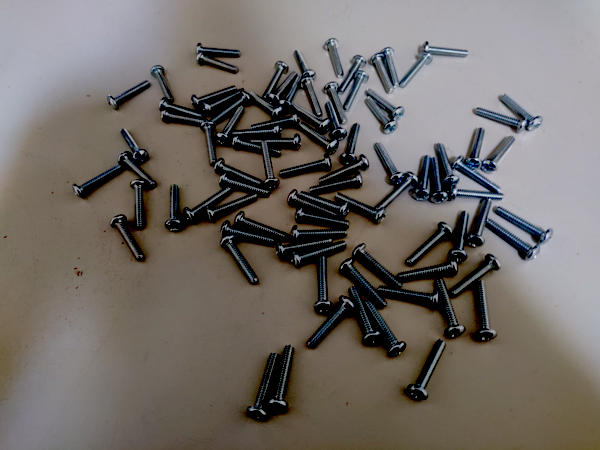longscrew: (309, 295, 353, 352), (365, 294, 402, 356), (409, 340, 447, 400), (339, 259, 386, 305), (489, 220, 541, 259), (498, 206, 554, 242), (348, 285, 377, 348), (251, 353, 277, 421), (270, 343, 296, 411), (108, 215, 144, 264), (406, 224, 450, 264), (453, 258, 498, 297), (358, 244, 400, 285), (469, 281, 497, 341), (437, 279, 465, 339), (224, 236, 257, 286), (72, 167, 123, 199), (454, 160, 502, 193), (218, 221, 277, 247), (397, 261, 460, 285), (475, 103, 527, 132), (500, 93, 542, 128), (373, 286, 439, 308), (336, 192, 386, 221), (299, 189, 349, 218), (290, 239, 348, 264), (121, 150, 158, 189), (189, 186, 230, 221), (206, 192, 261, 218), (286, 189, 335, 218), (378, 171, 416, 208), (235, 213, 289, 239), (296, 118, 336, 153), (311, 254, 334, 314), (280, 151, 334, 176), (216, 154, 262, 183), (306, 171, 363, 194), (211, 89, 248, 123), (319, 155, 367, 181), (215, 174, 271, 196), (374, 142, 403, 184), (484, 137, 519, 171), (216, 104, 245, 144), (118, 126, 149, 163), (470, 198, 493, 247), (109, 80, 149, 108), (297, 206, 350, 227), (367, 90, 405, 119), (365, 100, 397, 134), (292, 102, 330, 130), (369, 53, 394, 94), (402, 55, 436, 85), (158, 99, 208, 119), (451, 211, 470, 263), (268, 71, 298, 103), (203, 87, 243, 111), (340, 55, 365, 93), (345, 70, 368, 111), (325, 83, 348, 124), (413, 155, 433, 201), (324, 101, 347, 141), (259, 139, 277, 190), (291, 223, 348, 239), (192, 83, 235, 104), (339, 122, 361, 163), (277, 240, 330, 257), (439, 141, 459, 186), (429, 158, 449, 203), (251, 87, 281, 117), (246, 113, 298, 130), (195, 53, 238, 73), (322, 39, 345, 76), (301, 79, 323, 117), (293, 44, 315, 82), (131, 180, 147, 230), (229, 139, 282, 154), (265, 61, 287, 97), (420, 41, 471, 56), (192, 42, 243, 57), (200, 124, 218, 166), (467, 130, 486, 169), (166, 184, 181, 233), (232, 126, 283, 140), (279, 72, 298, 109), (149, 67, 169, 100), (450, 189, 504, 201), (386, 48, 401, 87), (153, 110, 199, 122), (250, 136, 303, 146)
